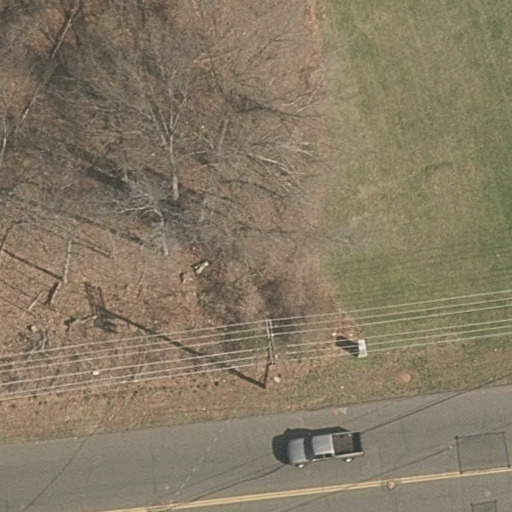DT: (251, 311, 286, 398)
